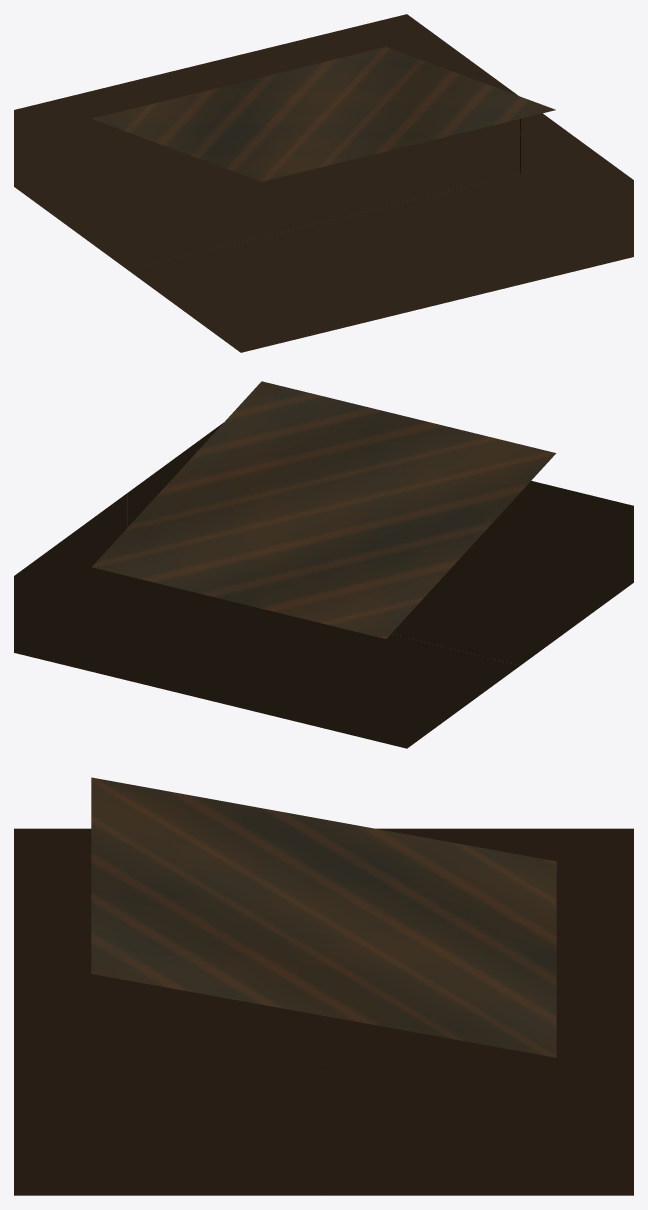
Rendered from trap_t8_noise_trap.glb.
3 views of the same model, one above another, from view 1: azimuth 30°, elevation 25°; view 2: azimuth 150°, elevation 25°; view 3: azimuth 270°, elevation 25° (orthographic). The views are drawn at different scales.
Visible parts, largest first — view 1: trap_t8_noise_trap; view 2: trap_t8_noise_trap; view 3: trap_t8_noise_trap.
Part boxes in pixels (left/top/right/bottom): trap_t8_noise_trap: left=14, top=14, right=633, bottom=352; trap_t8_noise_trap: left=14, top=381, right=633, bottom=748; trap_t8_noise_trap: left=14, top=777, right=633, bottom=1195.
Bounding box in the file's own units: 0.75 × 0.252 × 0.75.
Materials: 1 (1 with a texture image).
